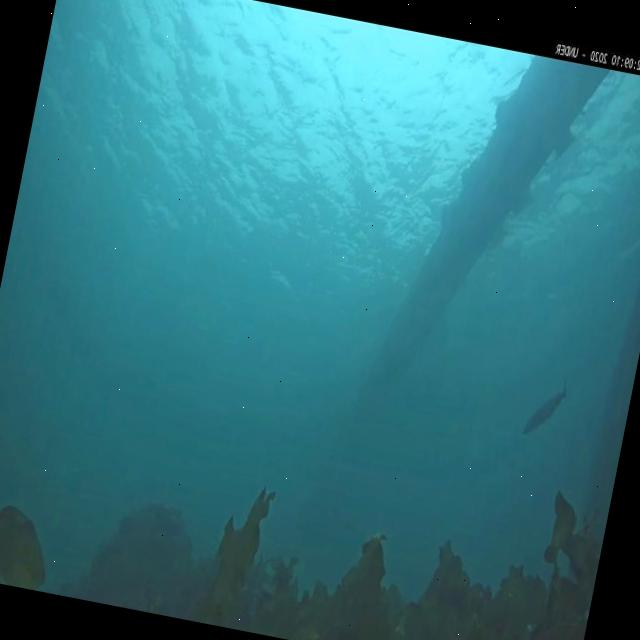fish: (520, 374, 571, 444)
